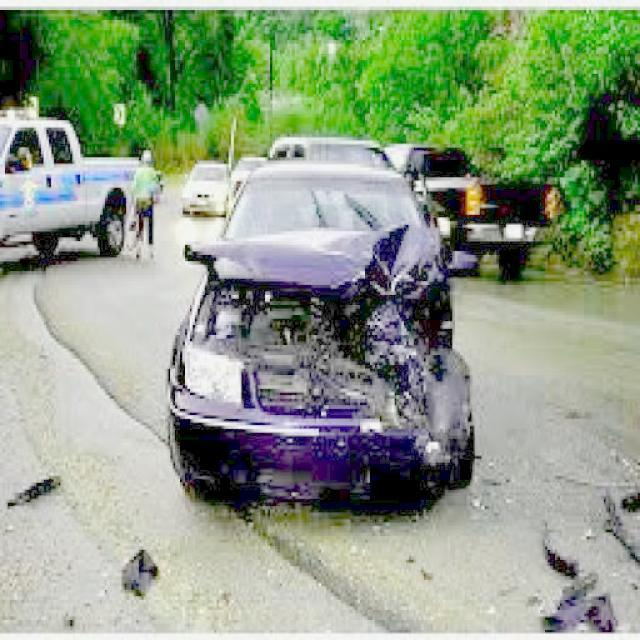car damage: (182, 225, 458, 465)
